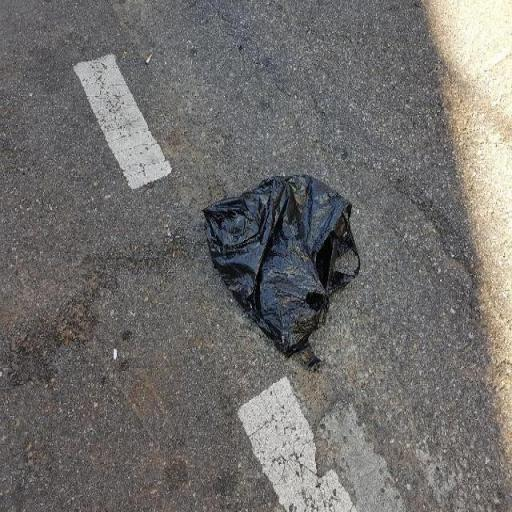plastic-bag: (200, 172, 362, 371)
